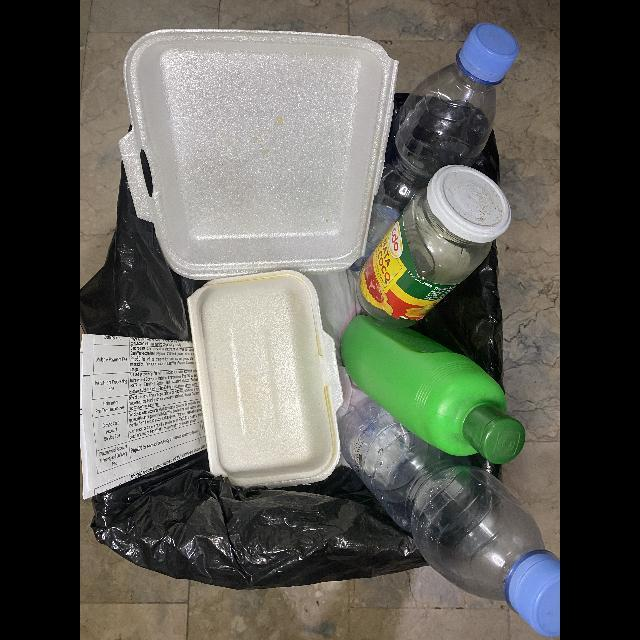glass: (356, 165, 511, 330)
paper: (81, 334, 207, 500)
plastic: (336, 364, 560, 639), (349, 23, 520, 275), (340, 315, 526, 465)
styrofoam: (119, 29, 400, 282), (187, 270, 343, 489)
